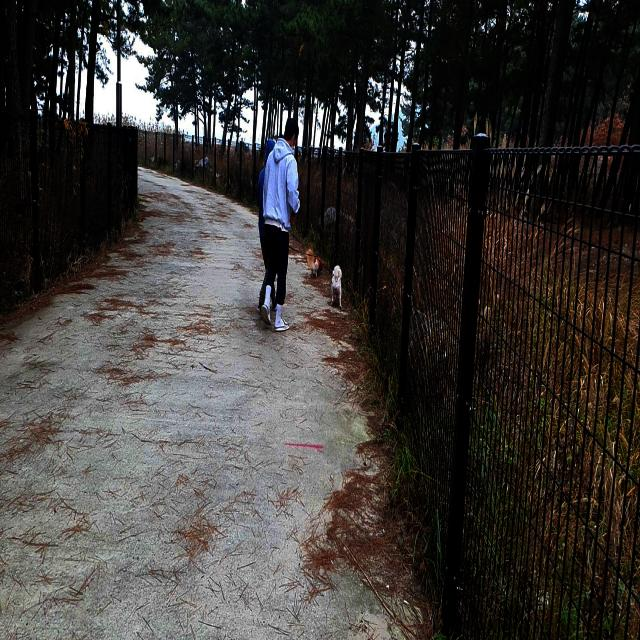Leashed_Dog: (276, 201, 344, 310), (277, 202, 324, 280)
